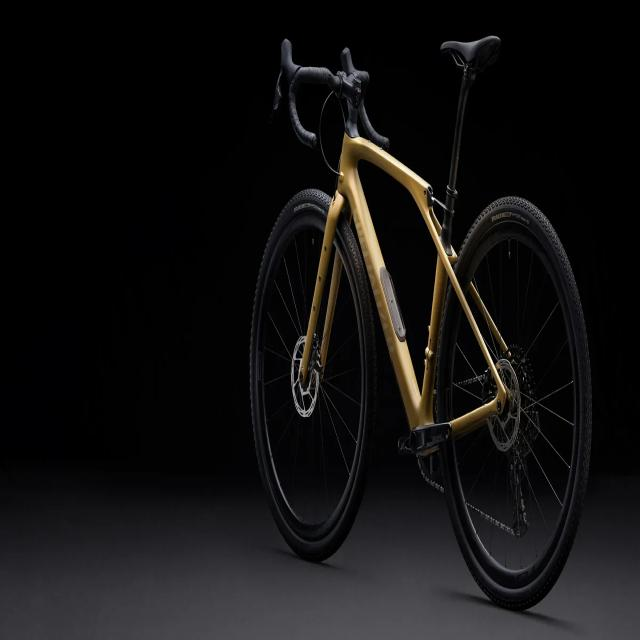bicycle: (248, 27, 598, 640)
